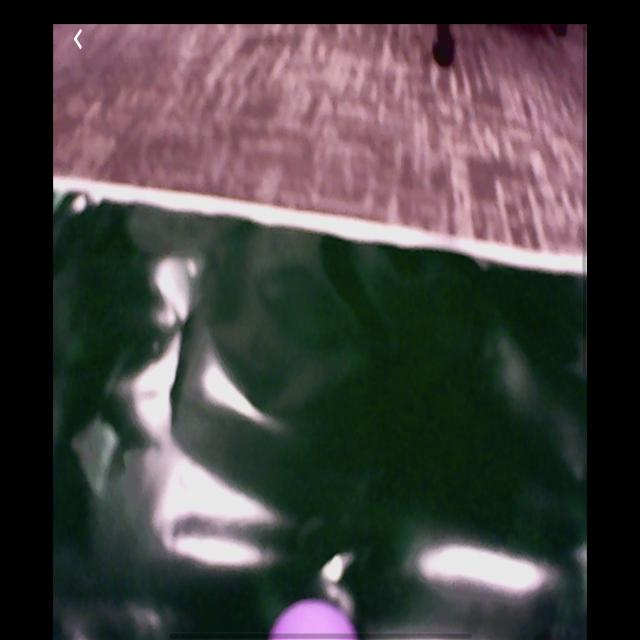ball: (268, 598, 359, 638)
